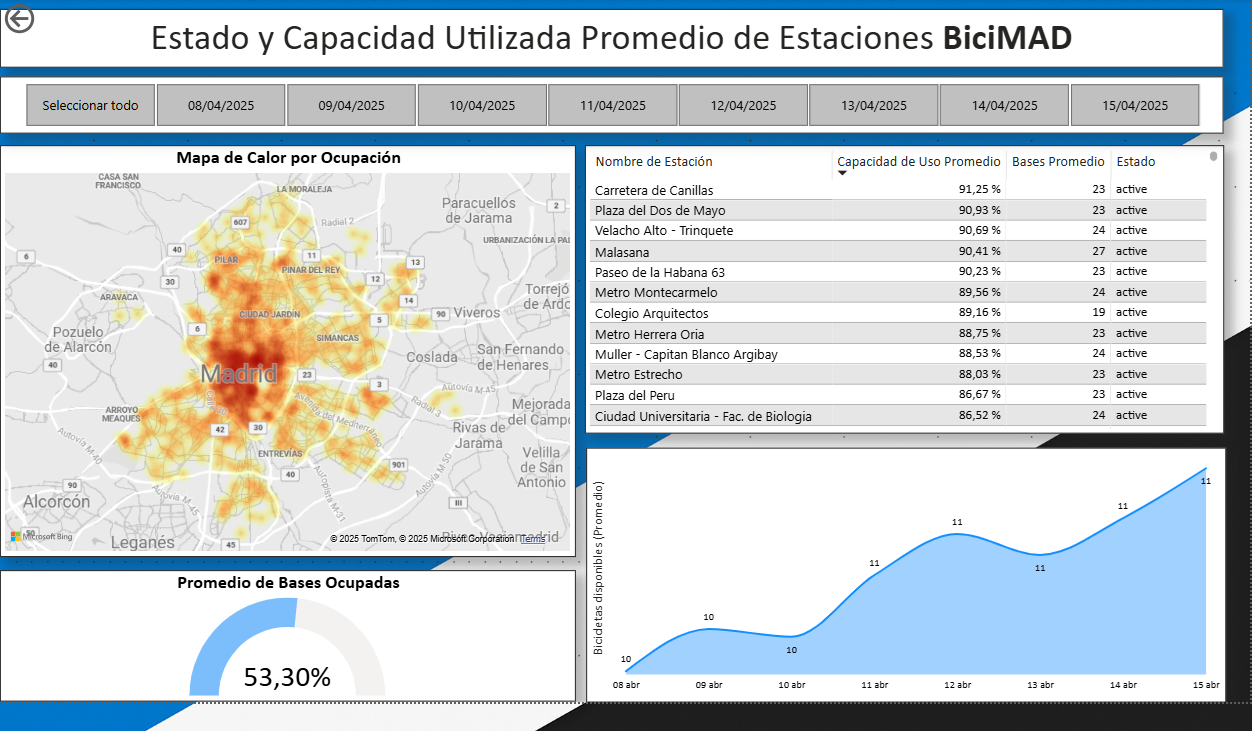

Layout of this report page (visuals, bound fields, positions):
{"tool":"powerbi","page":{"name":"Ocupación y Estado de Estaciones","canvas":[1280,720],"ordinal":0},"visuals":[{"type":"textbox","box":[0,10,1253,60],"z":0},{"type":"map","title":"Mapa de Calor por Ocupación","fields":{"Y":["bicimad_dataset_from_db.latitude"],"X":["bicimad_dataset_from_db.longitude"]},"box":[0,149.3,589.3,421.3],"z":1000},{"type":"pivotTable","fields":{"Rows":["bicimad_dataset_from_db.name"],"Values":["bicimad_dataset_from_db.UsoEstacion_Activas_ConCero","bicimad_dataset_from_db.CapacidadPromedioEstacion","bicimad_dataset_from_db.EstadoActualEstacion"]},"box":[598.4,149.6,654.5,295.5],"z":2000},{"type":"gauge","title":"Promedio de Bases Ocupadas","fields":{"Y":["bicimad_dataset_from_db.PromedioOcupacionEstacion_Activas"]},"box":[0,585.3,589.3,134.7],"z":3000},{"type":"lineChart","fields":{"Y":["bicimad_dataset_from_db.PorcentajeEstacionesNoActivasPorDia"],"Category":["bicimad_dataset_from_db.Fecha.Variación.Jerarquía de fechas.Año","bicimad_dataset_from_db.Fecha.Variación.Jerarquía de fechas.Trimestre","bicimad_dataset_from_db.Fecha.Variación.Jerarquía de fechas.Mes","bicimad_dataset_from_db.Fecha.Variación.Jerarquía de fechas.Día"]},"box":[600,460.1,655,260.6],"z":4000},{"type":"slicer","fields":{"Values":["bicimad_dataset_from_db.Fecha"]},"box":[0,79.8,1253,58.6],"z":5000},{"type":"actionButton","box":[0,0,100,40],"z":6000}]}

Visuals, with their boxes in screenshot pixels (x1, y1, x2, y2):
textbox: Rect(10, 6, 1218, 64)
"Mapa de Calor por Ocupación" map: Rect(10, 141, 578, 547)
pivotTable - bicimad_dataset_from_db.name x bicimad_dataset_from_db.UsoEstacion_Activas_ConCero: Rect(587, 141, 1218, 426)
"Promedio de Bases Ocupadas" gauge: Rect(10, 561, 578, 691)
lineChart - bicimad_dataset_from_db.PorcentajeEstacionesNoActivasPorDia x bicimad_dataset_from_db.Fecha.Variación.Jerarquía de fechas.Año: Rect(589, 441, 1220, 692)
slicer - bicimad_dataset_from_db.Fecha: Rect(10, 74, 1218, 130)
actionButton: Rect(10, 0, 106, 35)
